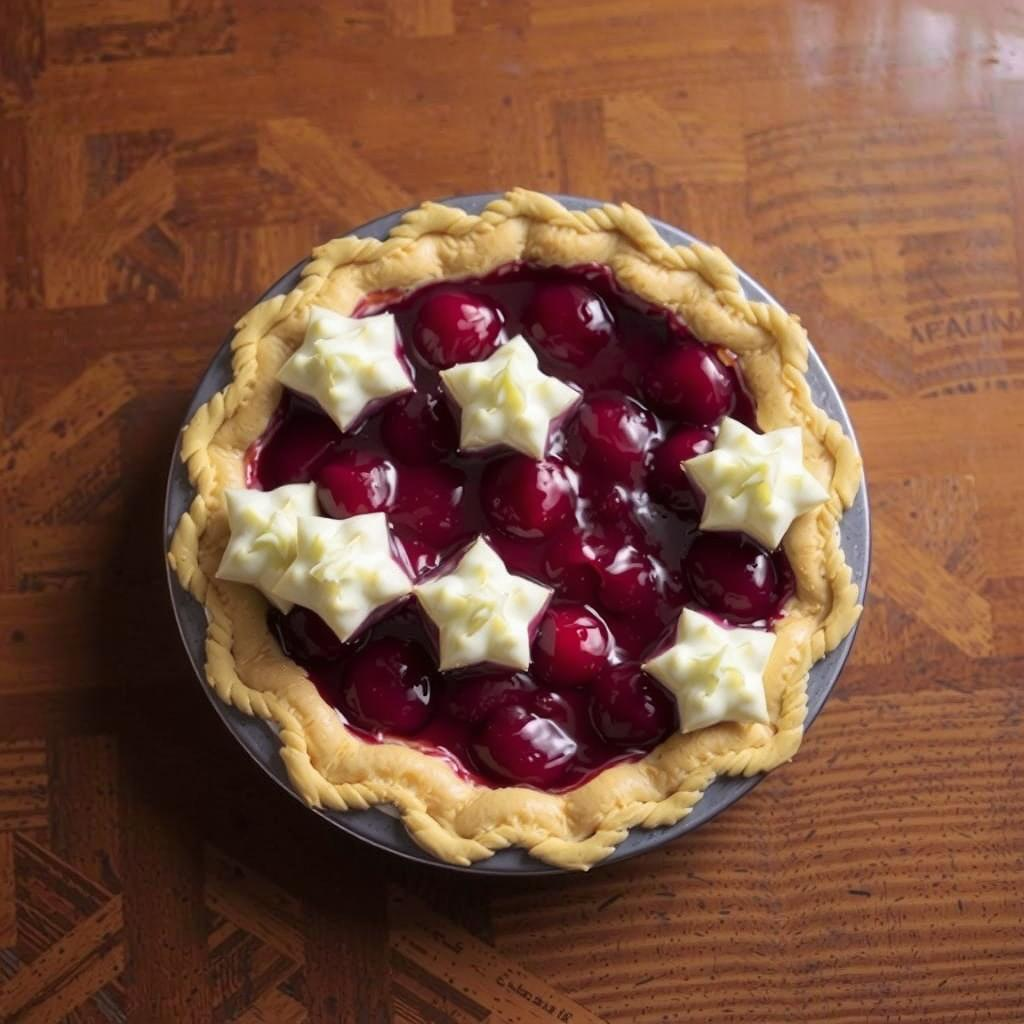pie: (157, 180, 870, 877)
